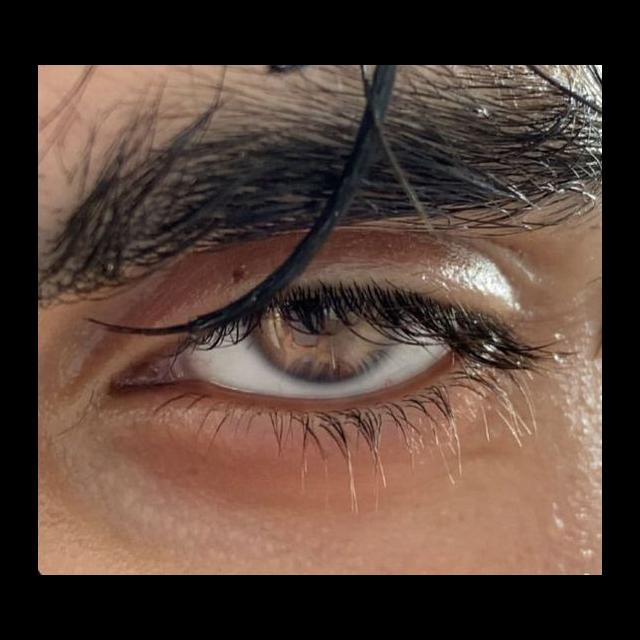eye: (189, 298, 466, 406)
iris: (249, 302, 408, 384)
